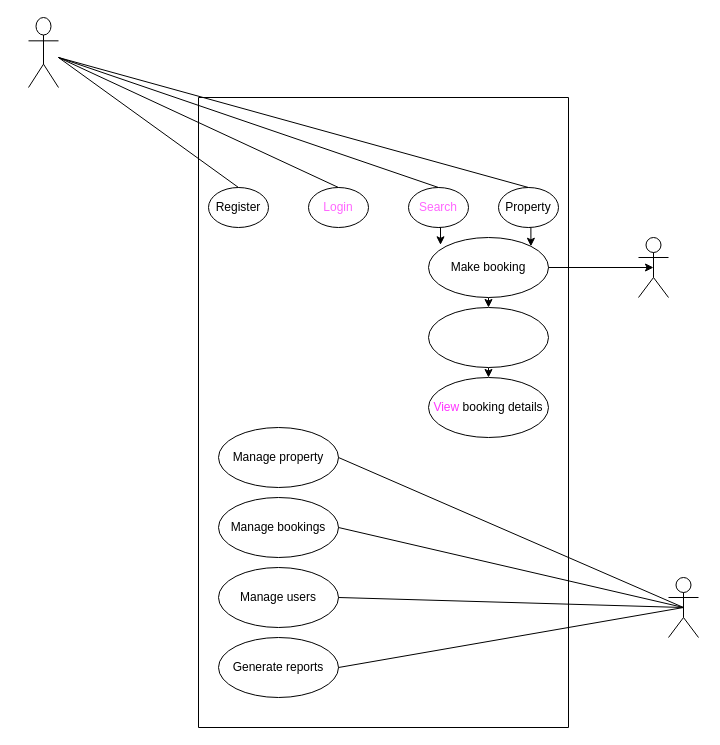
Image size: 720x745. Some labels were removed from this diagram. The centre of each missing label's shape, as x and y in pixels:
ADMIN: point 683,607
Cancel booking: point 488,337
Customer: point 43,52
Payment service: point 653,267
